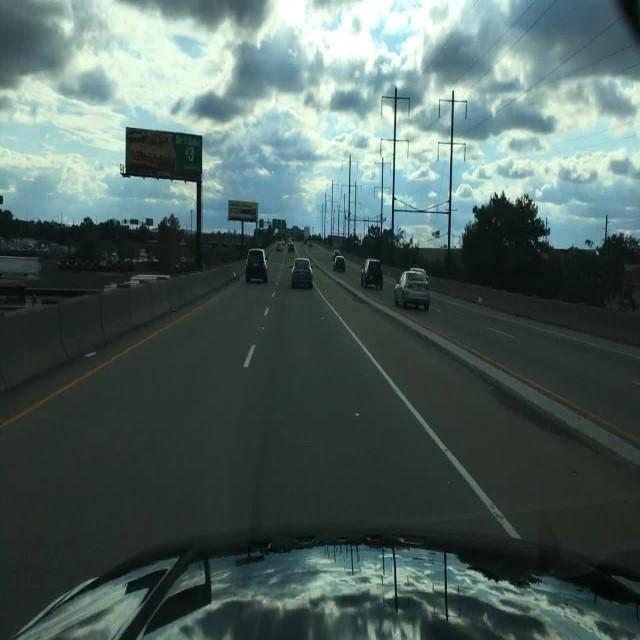normal: (393, 267, 431, 310), (290, 259, 314, 289)
